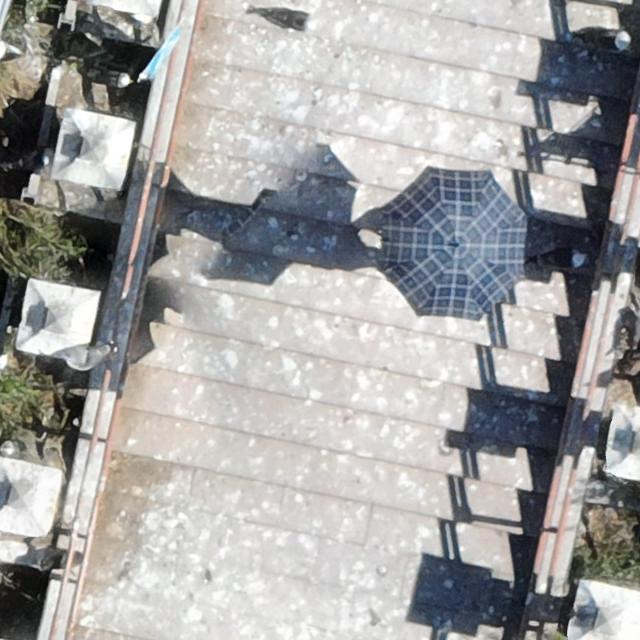umineko: (583, 27, 633, 51), (539, 250, 584, 269), (266, 11, 304, 28), (102, 69, 132, 86)
